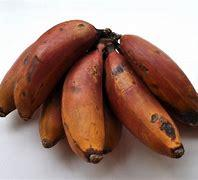banana: (2, 15, 198, 159)
